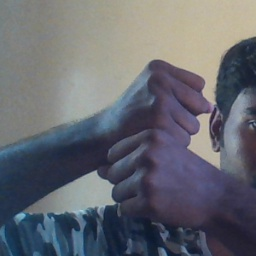G: (99, 58, 222, 231)
